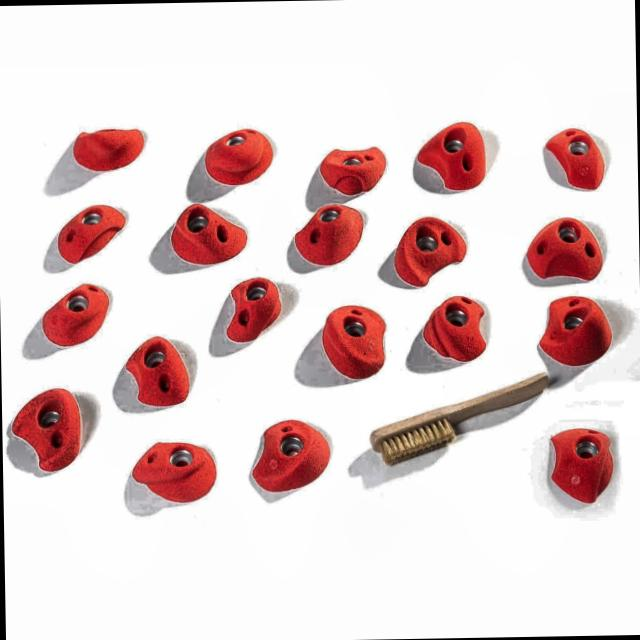Hold: (5, 386, 84, 472), (131, 438, 215, 509), (521, 208, 600, 280), (543, 426, 614, 506), (411, 116, 485, 192), (284, 198, 368, 264), (252, 418, 330, 489), (165, 196, 248, 261), (543, 292, 609, 373), (319, 303, 387, 376), (119, 334, 189, 404), (37, 284, 109, 350), (415, 293, 484, 361), (57, 202, 125, 267), (203, 124, 276, 184), (543, 123, 607, 190), (314, 143, 390, 192), (68, 123, 142, 169), (228, 278, 282, 340)
